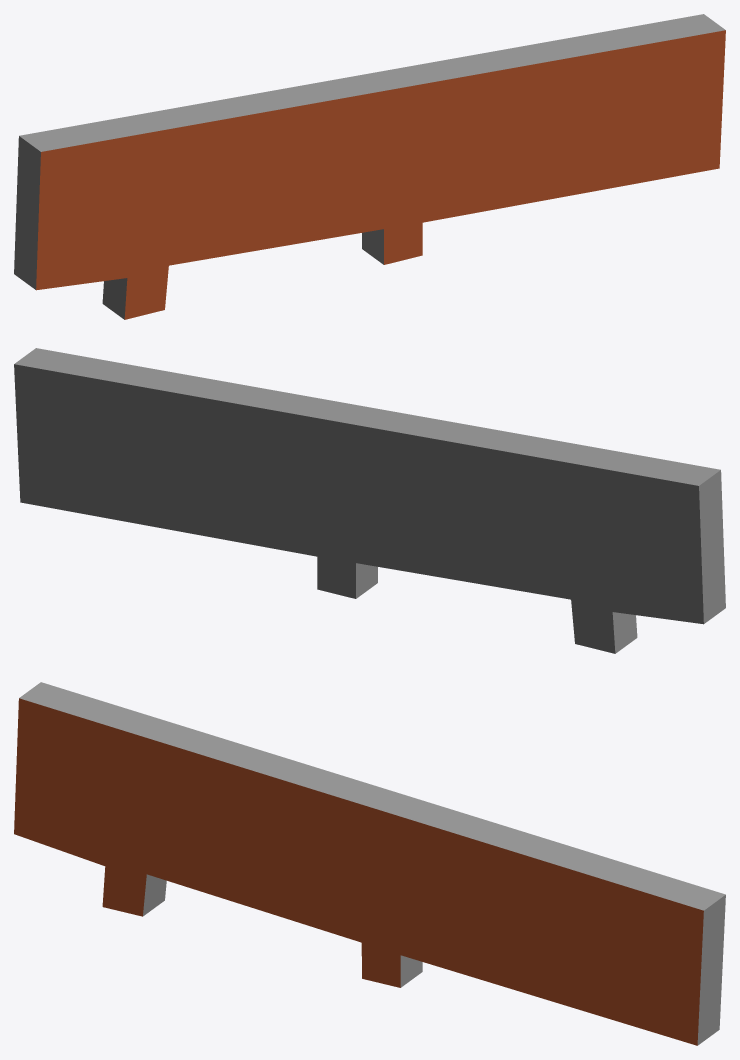
File: construction_4020_assumed_A_Casa_h6m.obj
3 views of the same model, one above another, from view 1: azimuth 30°, elevation 25°; view 2: azimuth 150°, elevation 25°; view 3: azimuth 330°, elevation 25° (orthographic).
Visible parts, largest first — view 1: construction_4020_assumed_A_Casa; view 2: construction_4020_assumed_A_Casa; view 3: construction_4020_assumed_A_Casa.
Boxes of the visible parts, bbox=[...] form: construction_4020_assumed_A_Casa: bbox=[14, 14, 725, 319]; construction_4020_assumed_A_Casa: bbox=[14, 348, 725, 653]; construction_4020_assumed_A_Casa: bbox=[14, 682, 725, 1045].
Bounding box in the file's own units: 108 × 29.5 × 6.
